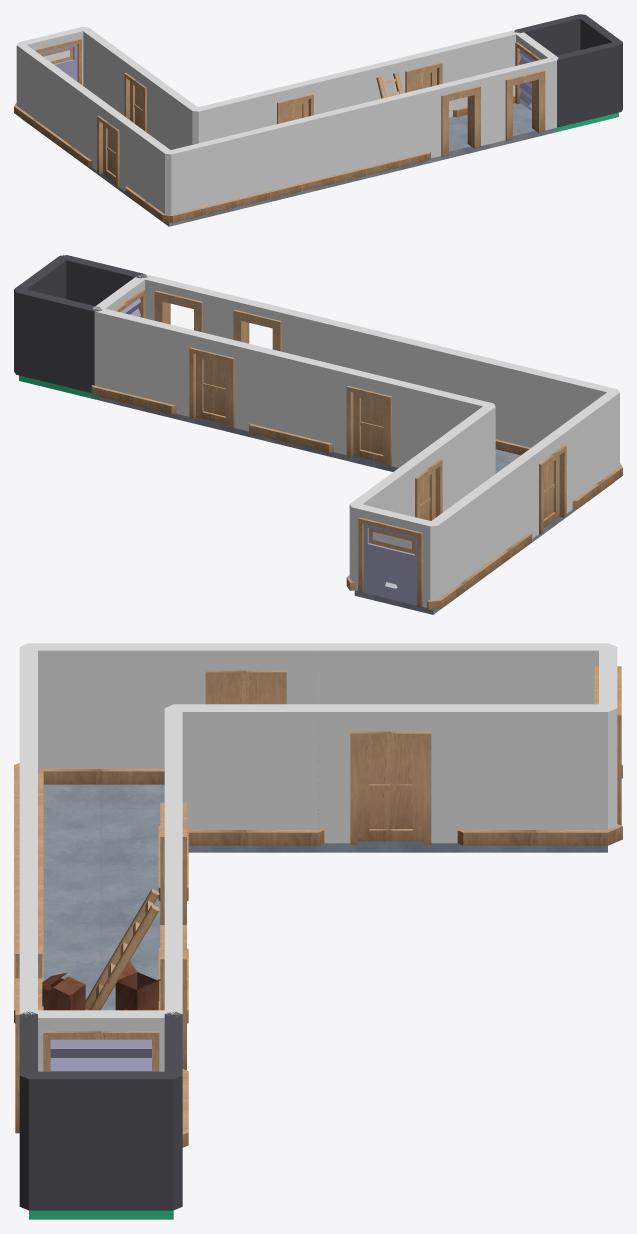
Rendered from Level_0_2-Alt_Locked.fbx.
The picture shows the model from 3 angles, top to bottom: view 1: azimuth 30°, elevation 25°; view 2: azimuth 150°, elevation 25°; view 3: azimuth 270°, elevation 25°; orthographic projection. The views are drawn at different scales.
Visible parts, largest first — view 1: mergedBlocks; view 2: mergedBlocks; view 3: mergedBlocks.
Part boxes in pixels (box(x1,y1,x2,y2)): mergedBlocks: box(14, 14, 622, 226); mergedBlocks: box(14, 255, 622, 614); mergedBlocks: box(14, 643, 622, 1219).
Size of the model in its own units: 143 by 22 by 84.1.
9 materials, 4 textured.
